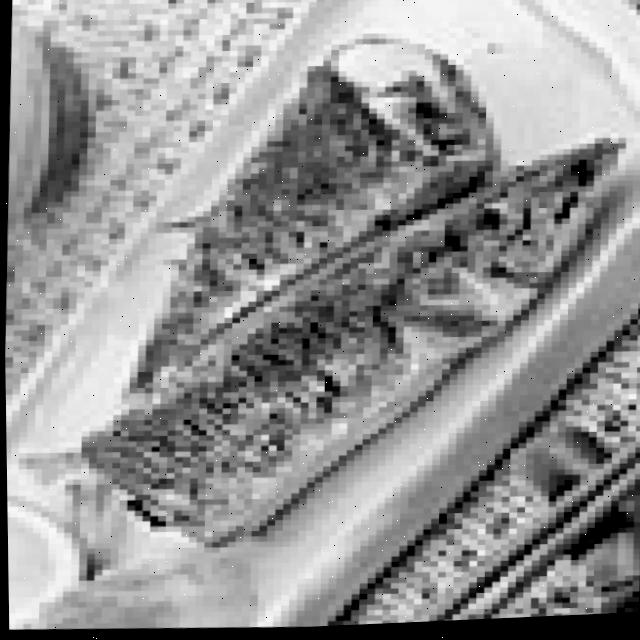熟制海鲜: (110, 0, 570, 532)
